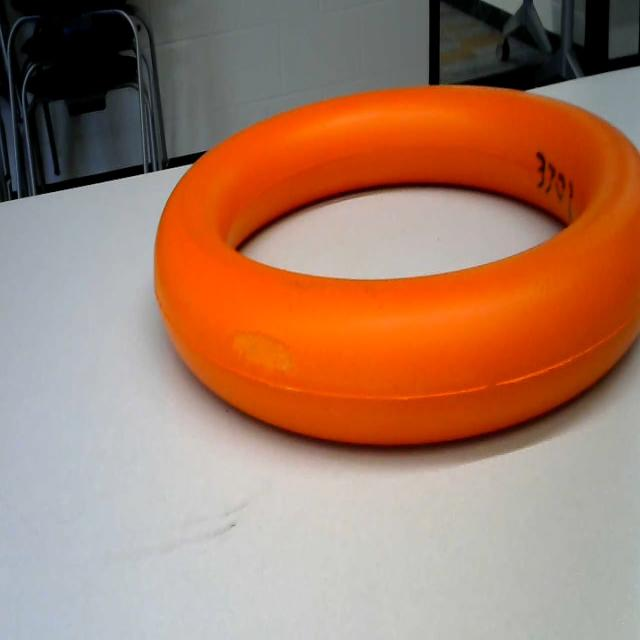note: (135, 58, 640, 468)
